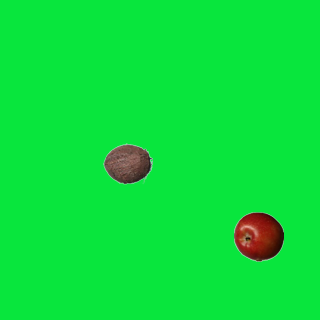Apple Braeburn: (233, 211, 283, 261)
Cocos: (102, 138, 152, 188)
